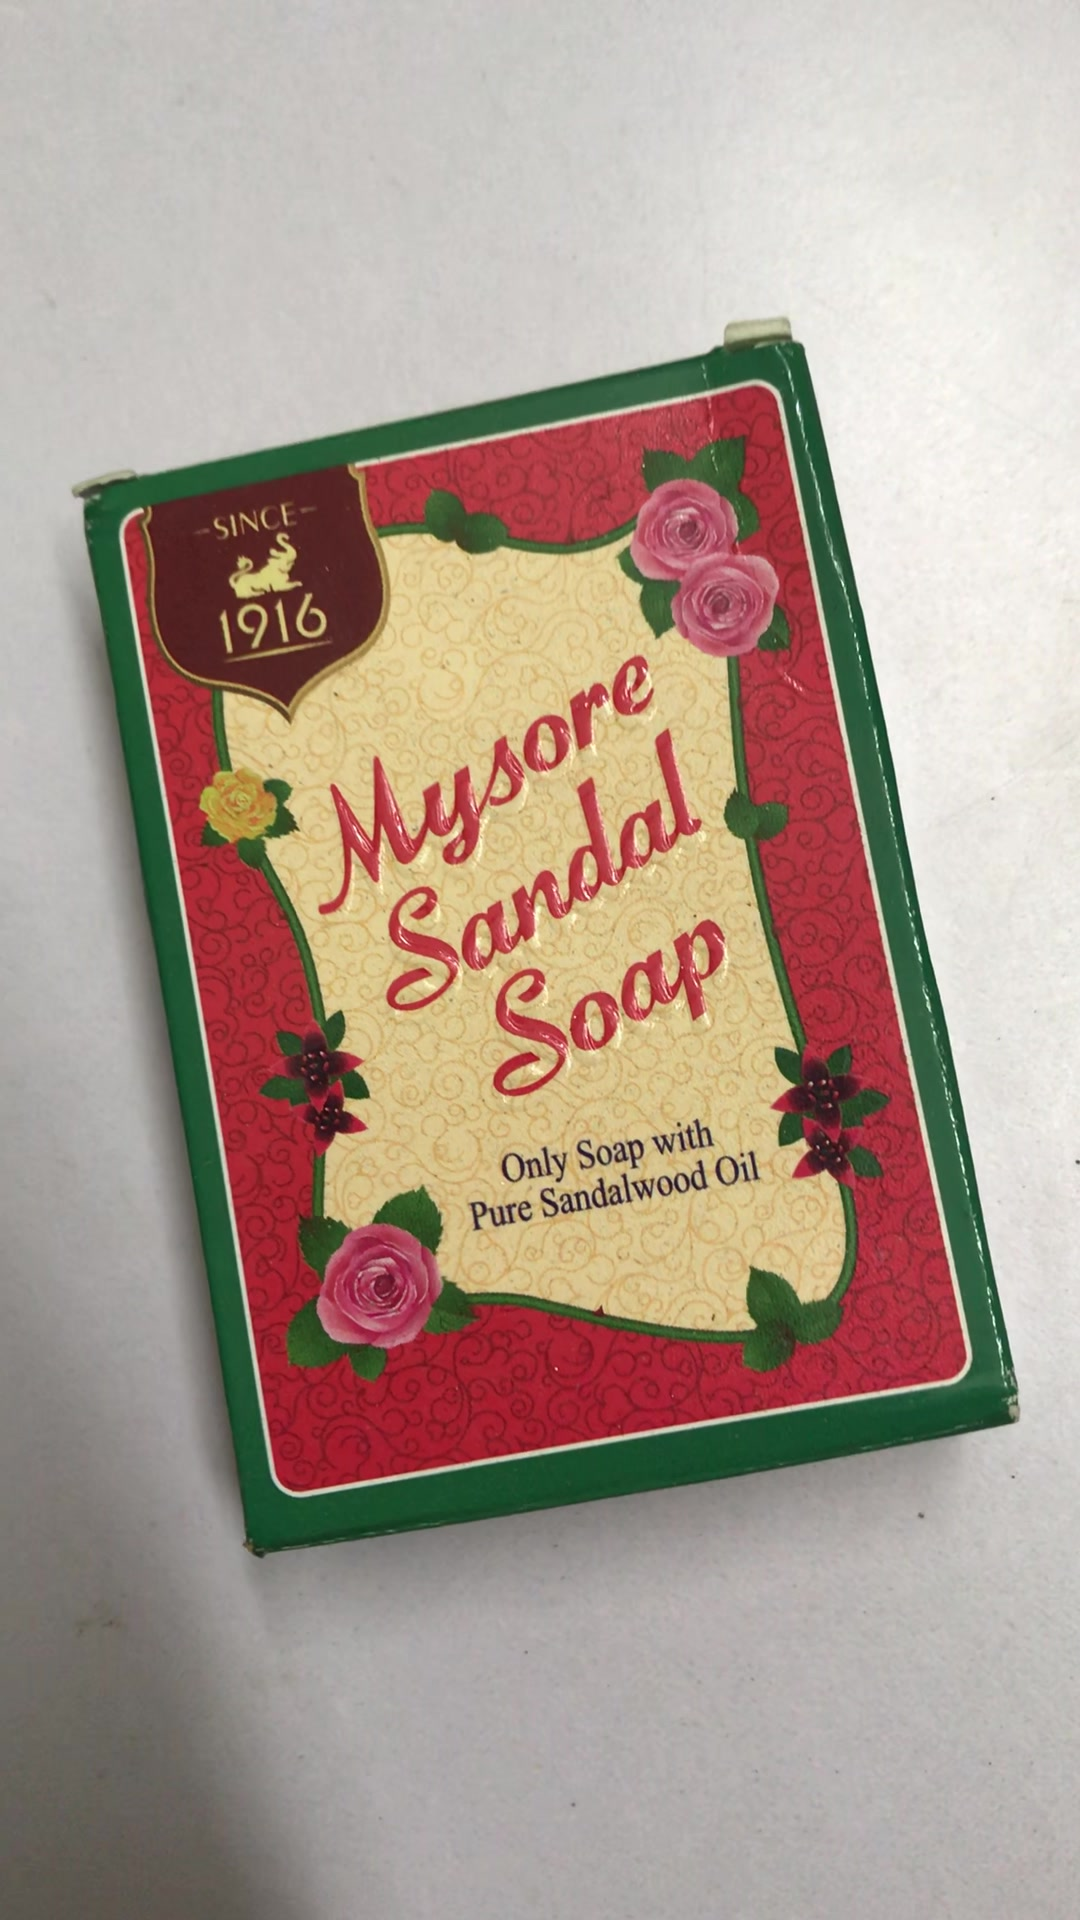mysore sandal soap: (80, 344, 1022, 1556)
